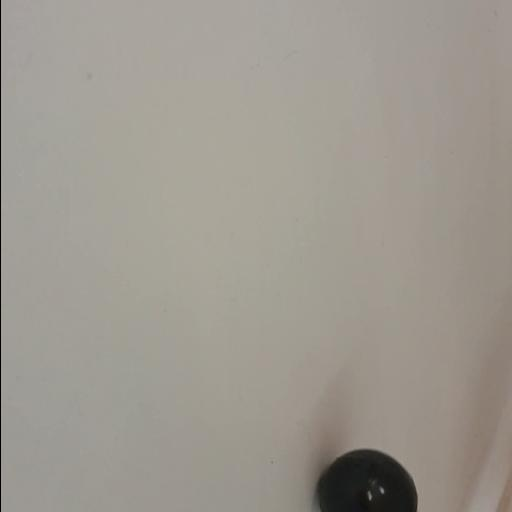dead: (314, 446, 420, 512)
